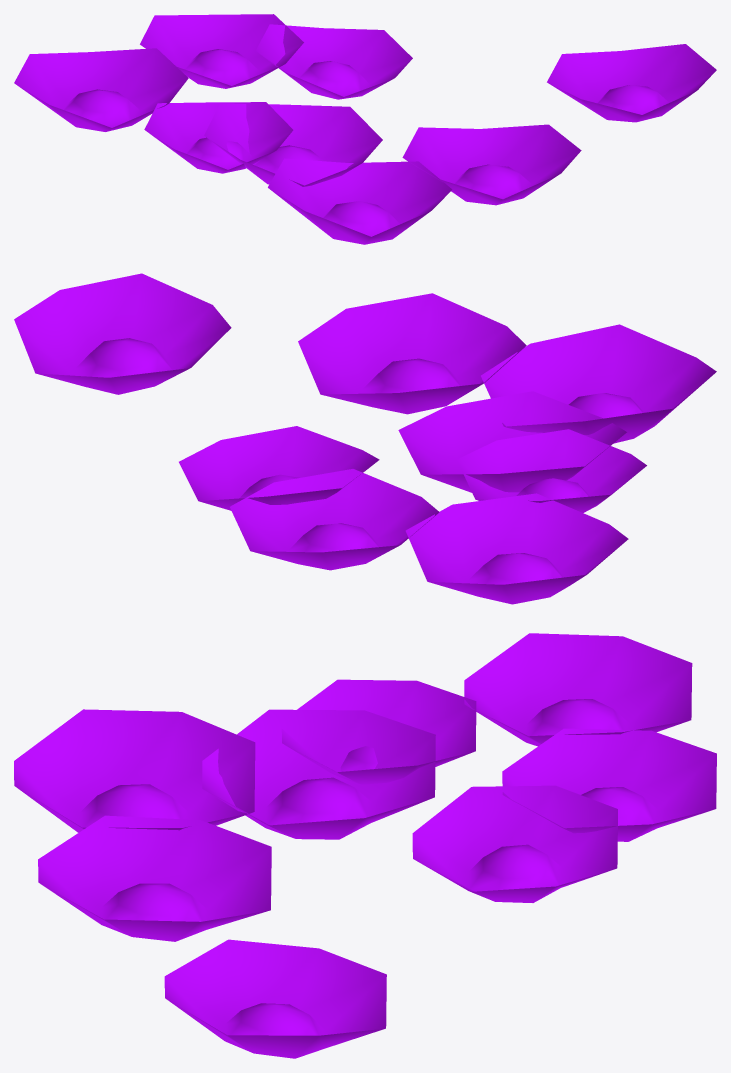
File: Misterius_9_FIX.fbx
The picture shows the model from 3 angles, top to bottom: view 1: azimuth 30°, elevation 25°; view 2: azimuth 150°, elevation 25°; view 3: azimuth 270°, elevation 25°; orthographic projection. The views are drawn at different scales.
Visible parts, largest first — view 1: Circle_587, Circle_593, Circle_590, Circle_660, Circle_592, Circle_595, Circle_591, Circle_594; view 2: Circle_590, Circle_660, Circle_593, Circle_587, Circle_592, Circle_591, Circle_595, Circle_594; view 3: Circle_590, Circle_587, Circle_660, Circle_591, Circle_593, Circle_595, Circle_592, Circle_594.
Boxes of the visible parts, left/top/right/bottom form: Circle_587: left=268, top=158, right=452, bottom=244; Circle_593: left=14, top=48, right=188, bottom=131; Circle_590: left=402, top=124, right=581, bottom=205; Circle_660: left=547, top=44, right=716, bottom=122; Circle_592: left=140, top=14, right=303, bottom=88; Circle_595: left=255, top=24, right=412, bottom=99; Circle_591: left=204, top=103, right=382, bottom=186; Circle_594: left=144, top=102, right=293, bottom=173; Circle_590: left=298, top=293, right=526, bottom=414; Circle_660: left=14, top=273, right=231, bottom=394; Circle_593: left=405, top=493, right=628, bottom=604; Circle_587: left=481, top=324, right=716, bottom=443; Circle_592: left=230, top=469, right=439, bottom=570; Circle_591: left=398, top=391, right=626, bottom=492; Circle_595: left=179, top=426, right=379, bottom=510; Circle_594: left=457, top=429, right=646, bottom=512; Circle_590: left=38, top=815, right=271, bottom=941; Circle_587: left=14, top=709, right=255, bottom=832; Circle_660: left=164, top=939, right=386, bottom=1058; Circle_591: left=202, top=709, right=435, bottom=839; Circle_593: left=464, top=633, right=692, bottom=746; Circle_595: left=412, top=785, right=617, bottom=902; Circle_592: left=502, top=728, right=716, bottom=841; Circle_594: left=281, top=679, right=476, bottom=784.
Bounding box in the file's own units: 9.37 × 0.9677 × 7.4.
